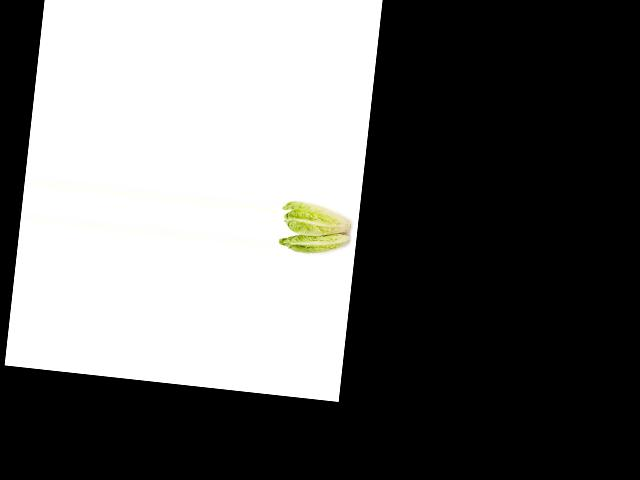lettuce: (276, 225, 355, 265)
